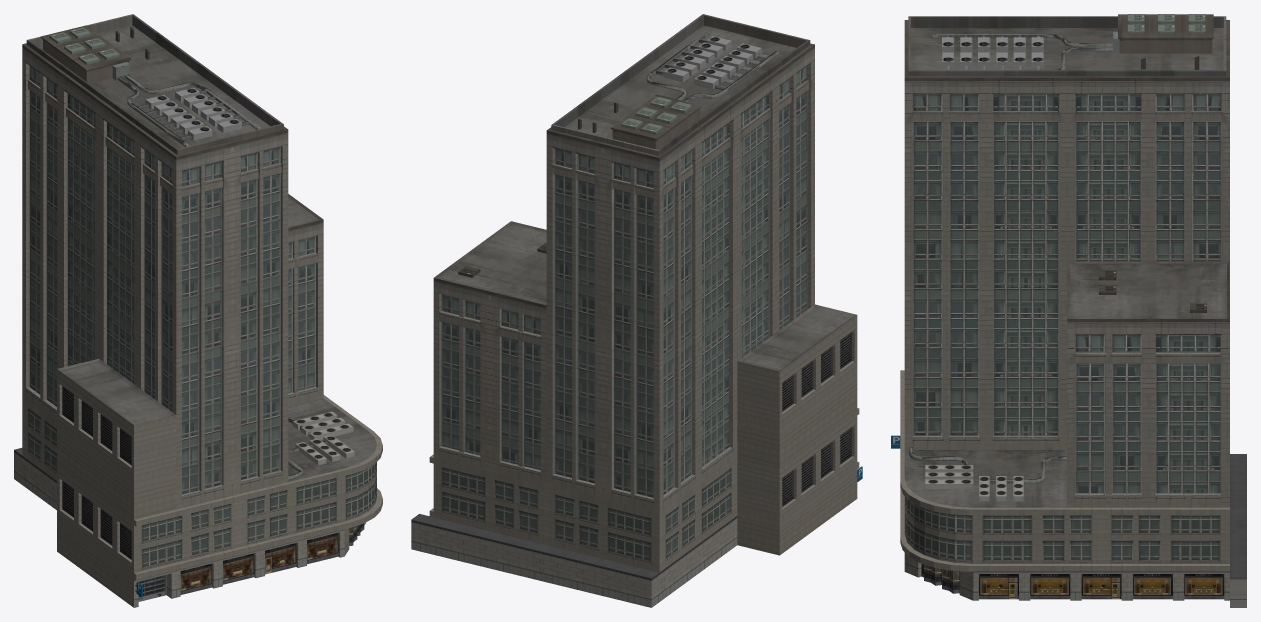
The model's file is stepped_midrise.glb.
The picture shows the model from 3 angles, left to right: view 1: azimuth 30°, elevation 25°; view 2: azimuth 150°, elevation 25°; view 3: azimuth 270°, elevation 25°; orthographic projection. The views are drawn at different scales.
Parts seen in each view (by area): view 1: stepped_midrise; view 2: stepped_midrise; view 3: stepped_midrise.
Part boxes in pixels (x1,y1,x2,y2): stepped_midrise: (14,14,382,607); stepped_midrise: (411,14,862,607); stepped_midrise: (891,14,1246,607).
Bounding box in the file's own units: 32 × 49.45 × 33.29.
Materials: 1 (1 with a texture image).
